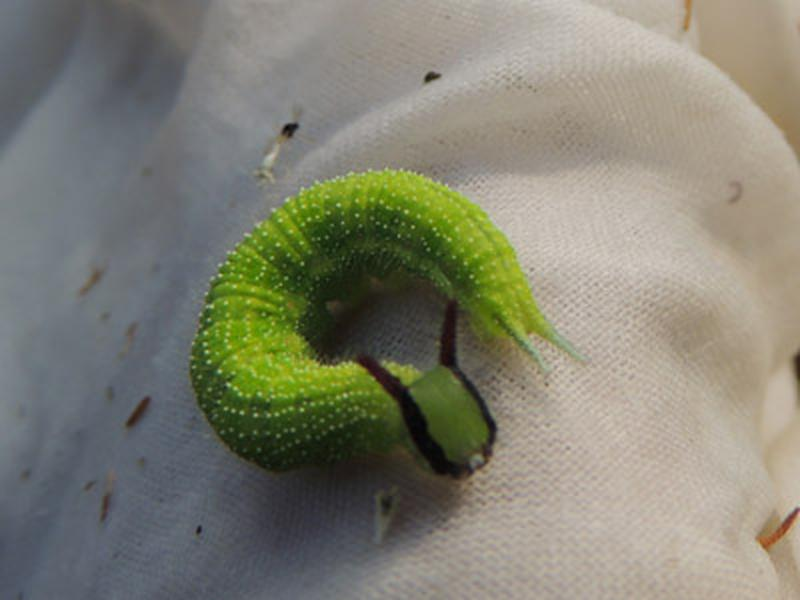Rice_horned_caterpillar: (182, 154, 578, 493)
